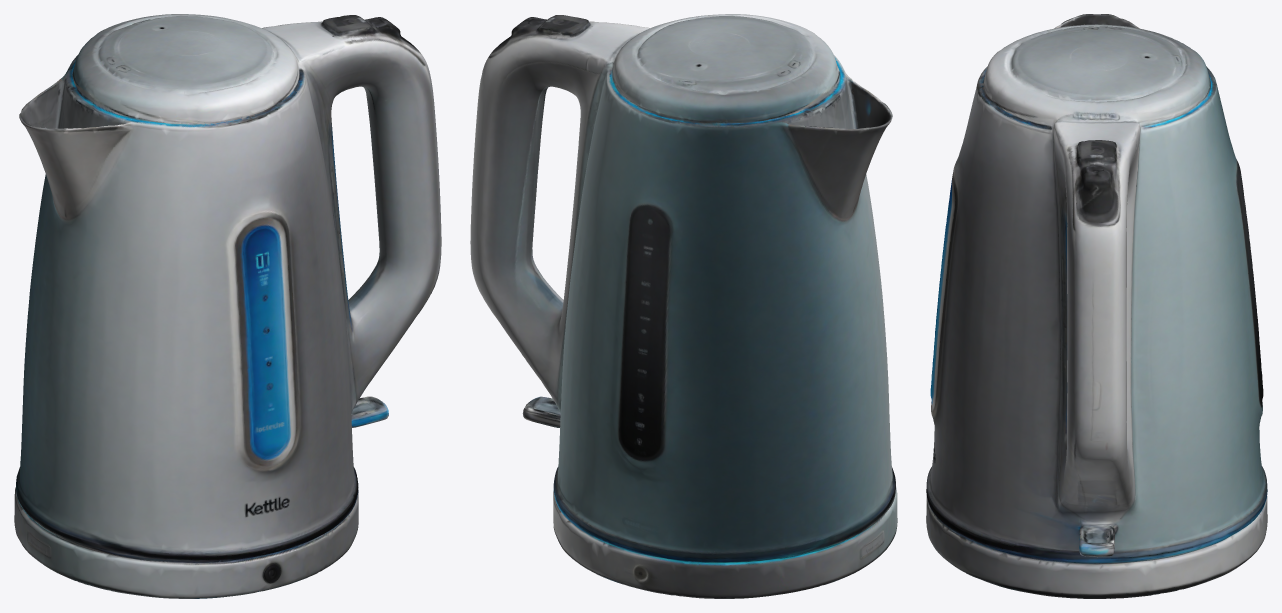
The model's file is electric_kettle_1108103002_refine.fbx.
3 renders of one model, left to right at view 1: azimuth 30°, elevation 25°; view 2: azimuth 150°, elevation 25°; view 3: azimuth 270°, elevation 25°, orthographic.
Visible parts, largest first — view 1: Mesh_0; view 2: Mesh_0; view 3: Mesh_0.
Boxes of the visible parts, x1=… form: Mesh_0: x1=14, y1=14, x2=441, y2=598; Mesh_0: x1=470, y1=14, x2=897, y2=598; Mesh_0: x1=926, y1=14, x2=1267, y2=598.
Bounding box in the file's own units: 178 × 200 × 130.
Materials: 1 (1 with a texture image).
